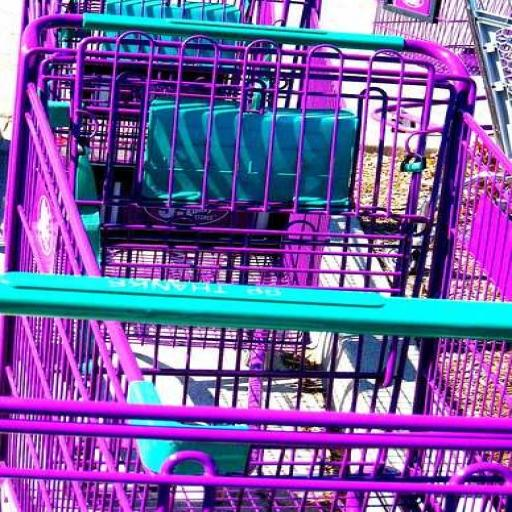shopping_cart: (20, 14, 512, 512), (0, 267, 512, 512), (372, 0, 498, 139)
